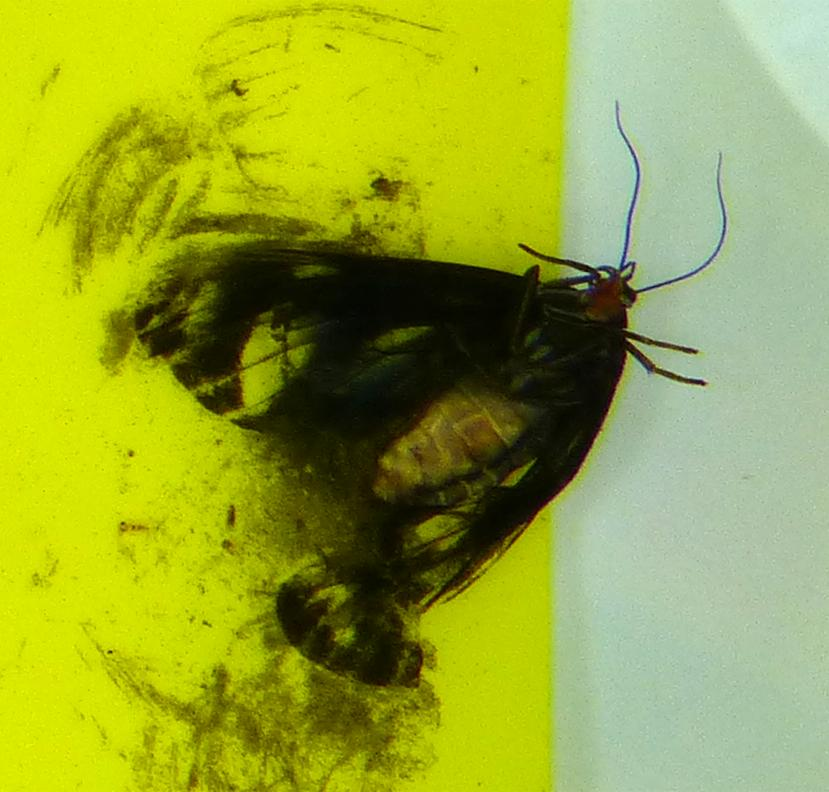Lepidoptera: (100, 100, 729, 692)
